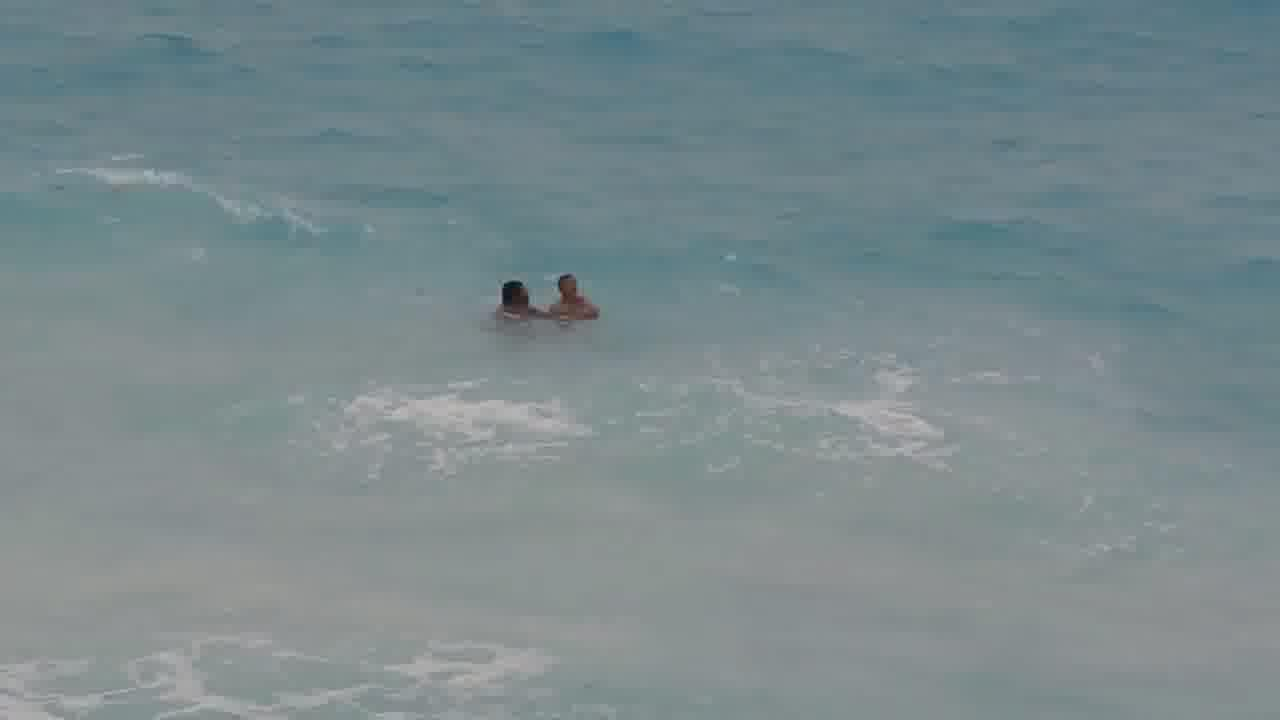human: (549, 267, 592, 316), (490, 275, 535, 321)
